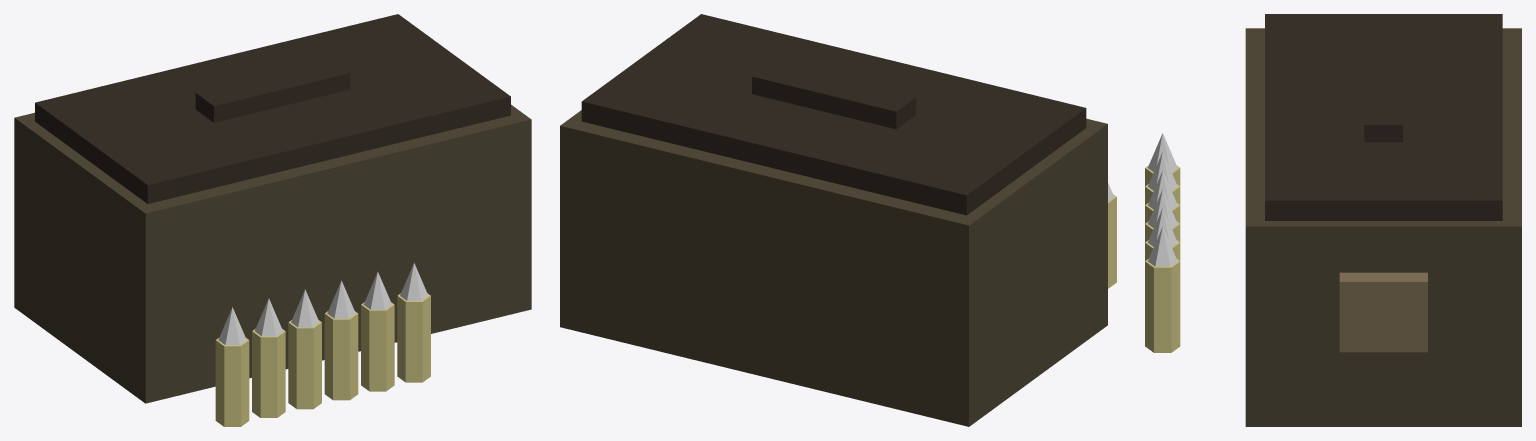
The model's file is ce_ammo_highcal_sabot_c.obj.
3 renders of one model, left to right at view 1: azimuth 30°, elevation 25°; view 2: azimuth 150°, elevation 25°; view 3: azimuth 270°, elevation 25°, orthographic. The views are drawn at different scales.
Parts seen in each view (by area): view 1: ce_ammo_highcal_sabot_c_0, ce_ammo_highcal_sabot_c_1, ce_ammo_highcal_sabot_c_2, ce_ammo_highcal_sabot_c_10, ce_ammo_highcal_sabot_c_4, ce_ammo_highcal_sabot_c_8, ce_ammo_highcal_sabot_c_12, ce_ammo_highcal_sabot_c_14, ce_ammo_highcal_sabot_c_6, ce_ammo_highcal_sabot_c_5, ce_ammo_highcal_sabot_c_7, ce_ammo_highcal_sabot_c_9 (+3 smaller); view 2: ce_ammo_highcal_sabot_c_0, ce_ammo_highcal_sabot_c_1, ce_ammo_highcal_sabot_c_2, ce_ammo_highcal_sabot_c_4; view 3: ce_ammo_highcal_sabot_c_0, ce_ammo_highcal_sabot_c_1, ce_ammo_highcal_sabot_c_3, ce_ammo_highcal_sabot_c_2, ce_ammo_highcal_sabot_c_14, ce_ammo_highcal_sabot_c_15, ce_ammo_highcal_sabot_c_9, ce_ammo_highcal_sabot_c_11, ce_ammo_highcal_sabot_c_5, ce_ammo_highcal_sabot_c_7, ce_ammo_highcal_sabot_c_13.
Part boxes in pixels (x1,y1,x2,y2): ce_ammo_highcal_sabot_c_0: [14, 104, 531, 403]; ce_ammo_highcal_sabot_c_1: [35, 14, 510, 203]; ce_ammo_highcal_sabot_c_2: [195, 59, 350, 122]; ce_ammo_highcal_sabot_c_10: [324, 311, 358, 400]; ce_ammo_highcal_sabot_c_4: [215, 338, 249, 426]; ce_ammo_highcal_sabot_c_8: [288, 320, 321, 409]; ce_ammo_highcal_sabot_c_12: [361, 302, 394, 391]; ce_ammo_highcal_sabot_c_14: [397, 293, 430, 382]; ce_ammo_highcal_sabot_c_6: [252, 329, 285, 417]; ce_ammo_highcal_sabot_c_5: [218, 307, 246, 345]; ce_ammo_highcal_sabot_c_7: [255, 298, 282, 336]; ce_ammo_highcal_sabot_c_9: [291, 289, 319, 327]; ce_ammo_highcal_sabot_c_0: [560, 110, 1107, 426]; ce_ammo_highcal_sabot_c_1: [581, 14, 1086, 215]; ce_ammo_highcal_sabot_c_2: [752, 62, 915, 129]; ce_ammo_highcal_sabot_c_4: [1108, 194, 1116, 288]; ce_ammo_highcal_sabot_c_0: [1245, 28, 1521, 426]; ce_ammo_highcal_sabot_c_1: [1265, 14, 1502, 220]; ce_ammo_highcal_sabot_c_3: [1339, 272, 1427, 352]; ce_ammo_highcal_sabot_c_2: [1364, 55, 1402, 142]; ce_ammo_highcal_sabot_c_14: [1145, 259, 1180, 352]; ce_ammo_highcal_sabot_c_15: [1148, 226, 1177, 266]; ce_ammo_highcal_sabot_c_9: [1148, 170, 1177, 209]; ce_ammo_highcal_sabot_c_11: [1148, 189, 1177, 228]; ce_ammo_highcal_sabot_c_5: [1148, 133, 1177, 171]; ce_ammo_highcal_sabot_c_7: [1148, 152, 1177, 190]; ce_ammo_highcal_sabot_c_13: [1148, 208, 1177, 246].
Bounding box in the file's own units: 0.89 × 0.475 × 0.682.
